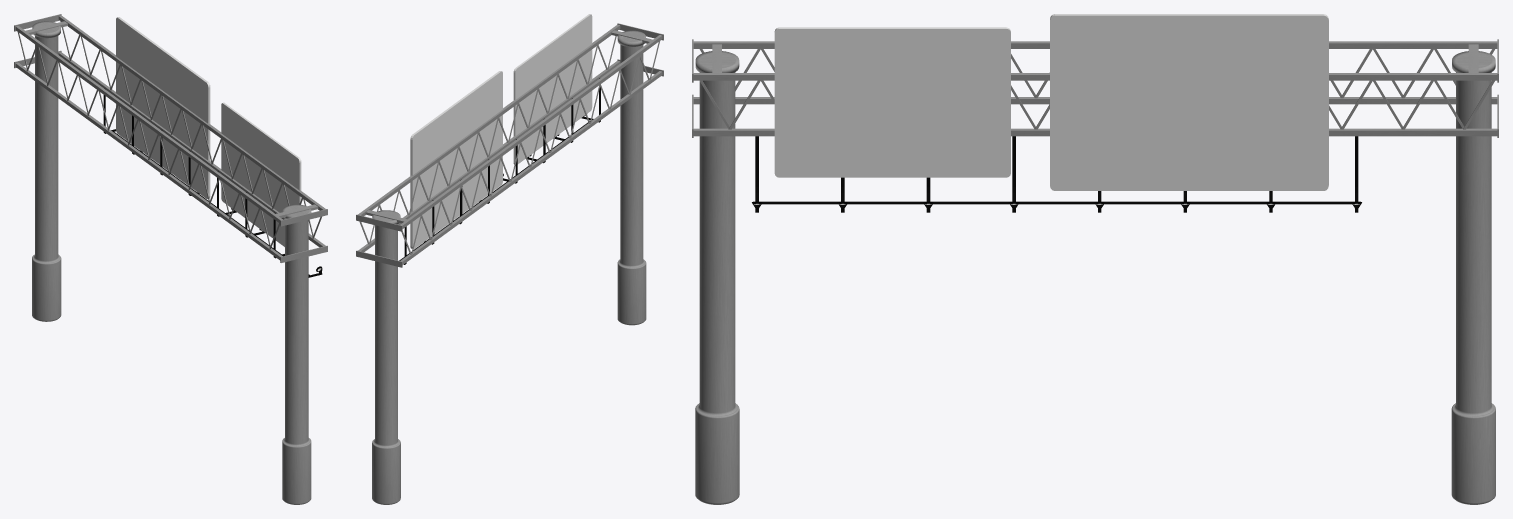
File: HighwaySignBoard_Up_Left2.fbx
3 renders of one model, left to right at view 1: azimuth 30°, elevation 25°; view 2: azimuth 150°, elevation 25°; view 3: azimuth 270°, elevation 25°, orthographic. The views are drawn at different scales.
Visible parts, largest first — view 1: Cylinder.002, Cube, Cube.005; view 2: Cylinder.002, Cube, Cube.005; view 3: Cube, Cylinder.002, Cube.005.
Boxes of the visible parts, x1,y1,x2,y2 form: Cylinder.002: (14, 14, 327, 504); Cube: (116, 17, 210, 198); Cube.005: (221, 102, 301, 246); Cylinder.002: (356, 23, 663, 504); Cube: (410, 71, 502, 248); Cube.005: (513, 14, 592, 164); Cube: (1050, 14, 1328, 190); Cylinder.002: (692, 39, 1498, 504); Cube.005: (774, 27, 1010, 177).
Size of the model in its own units: 997 by 135 by 679.
5 materials, 1 textured.
